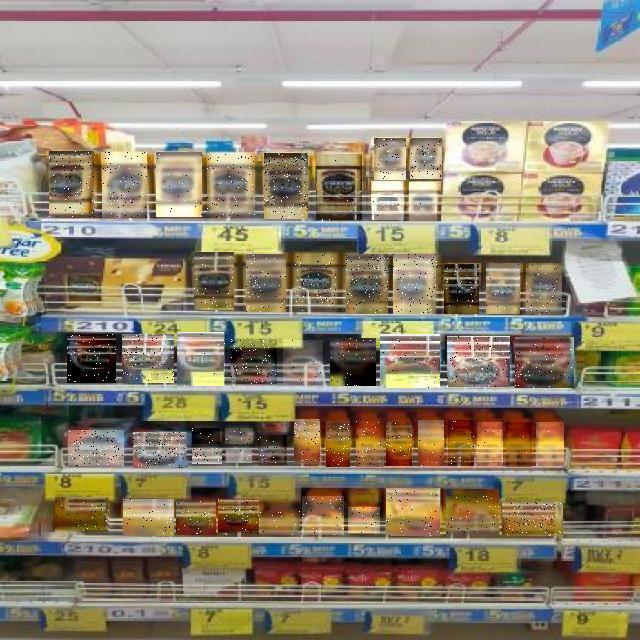Coffee: (380, 334, 440, 388), (447, 336, 510, 387), (207, 153, 255, 218), (50, 152, 96, 218), (316, 154, 362, 220), (515, 337, 574, 388), (156, 152, 202, 217), (102, 153, 147, 219), (264, 153, 308, 219), (178, 332, 228, 386), (394, 254, 438, 314), (386, 489, 440, 537), (123, 334, 175, 383), (346, 254, 388, 314), (294, 254, 337, 312), (446, 490, 499, 536), (67, 334, 116, 383), (195, 252, 235, 310), (246, 254, 286, 312), (330, 339, 376, 387), (502, 502, 563, 536), (231, 339, 277, 384), (68, 431, 124, 467), (134, 432, 190, 468), (56, 498, 110, 534), (123, 499, 174, 536), (526, 265, 562, 315), (283, 340, 323, 385), (444, 264, 479, 314), (486, 264, 520, 314), (302, 496, 344, 535), (260, 496, 300, 535), (218, 500, 259, 536), (176, 500, 216, 535), (374, 138, 406, 180), (371, 180, 404, 220), (410, 138, 442, 179), (356, 421, 384, 467), (536, 422, 564, 466), (294, 420, 320, 466), (418, 420, 444, 466), (448, 420, 474, 466), (506, 422, 532, 467), (386, 422, 412, 466), (477, 422, 503, 466), (327, 421, 351, 467), (409, 182, 437, 221), (258, 435, 287, 465), (348, 507, 380, 533), (192, 448, 222, 464), (192, 428, 220, 444), (225, 428, 253, 444), (226, 449, 252, 463)
